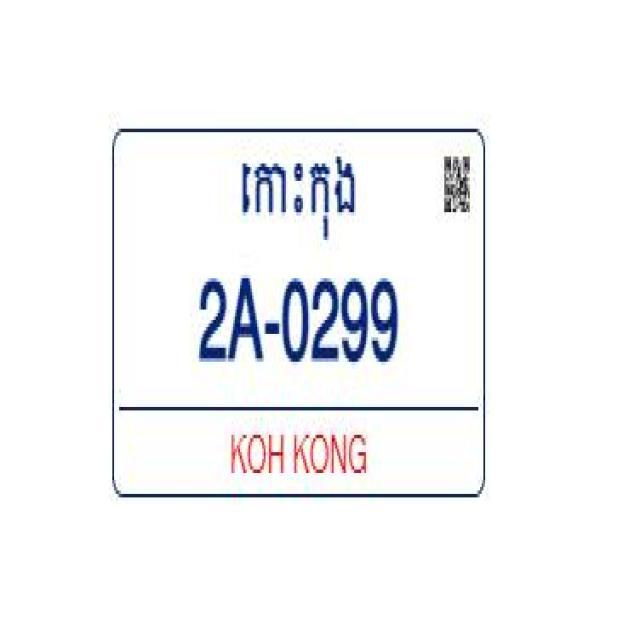Koh_Kong: (237, 143, 361, 244)
